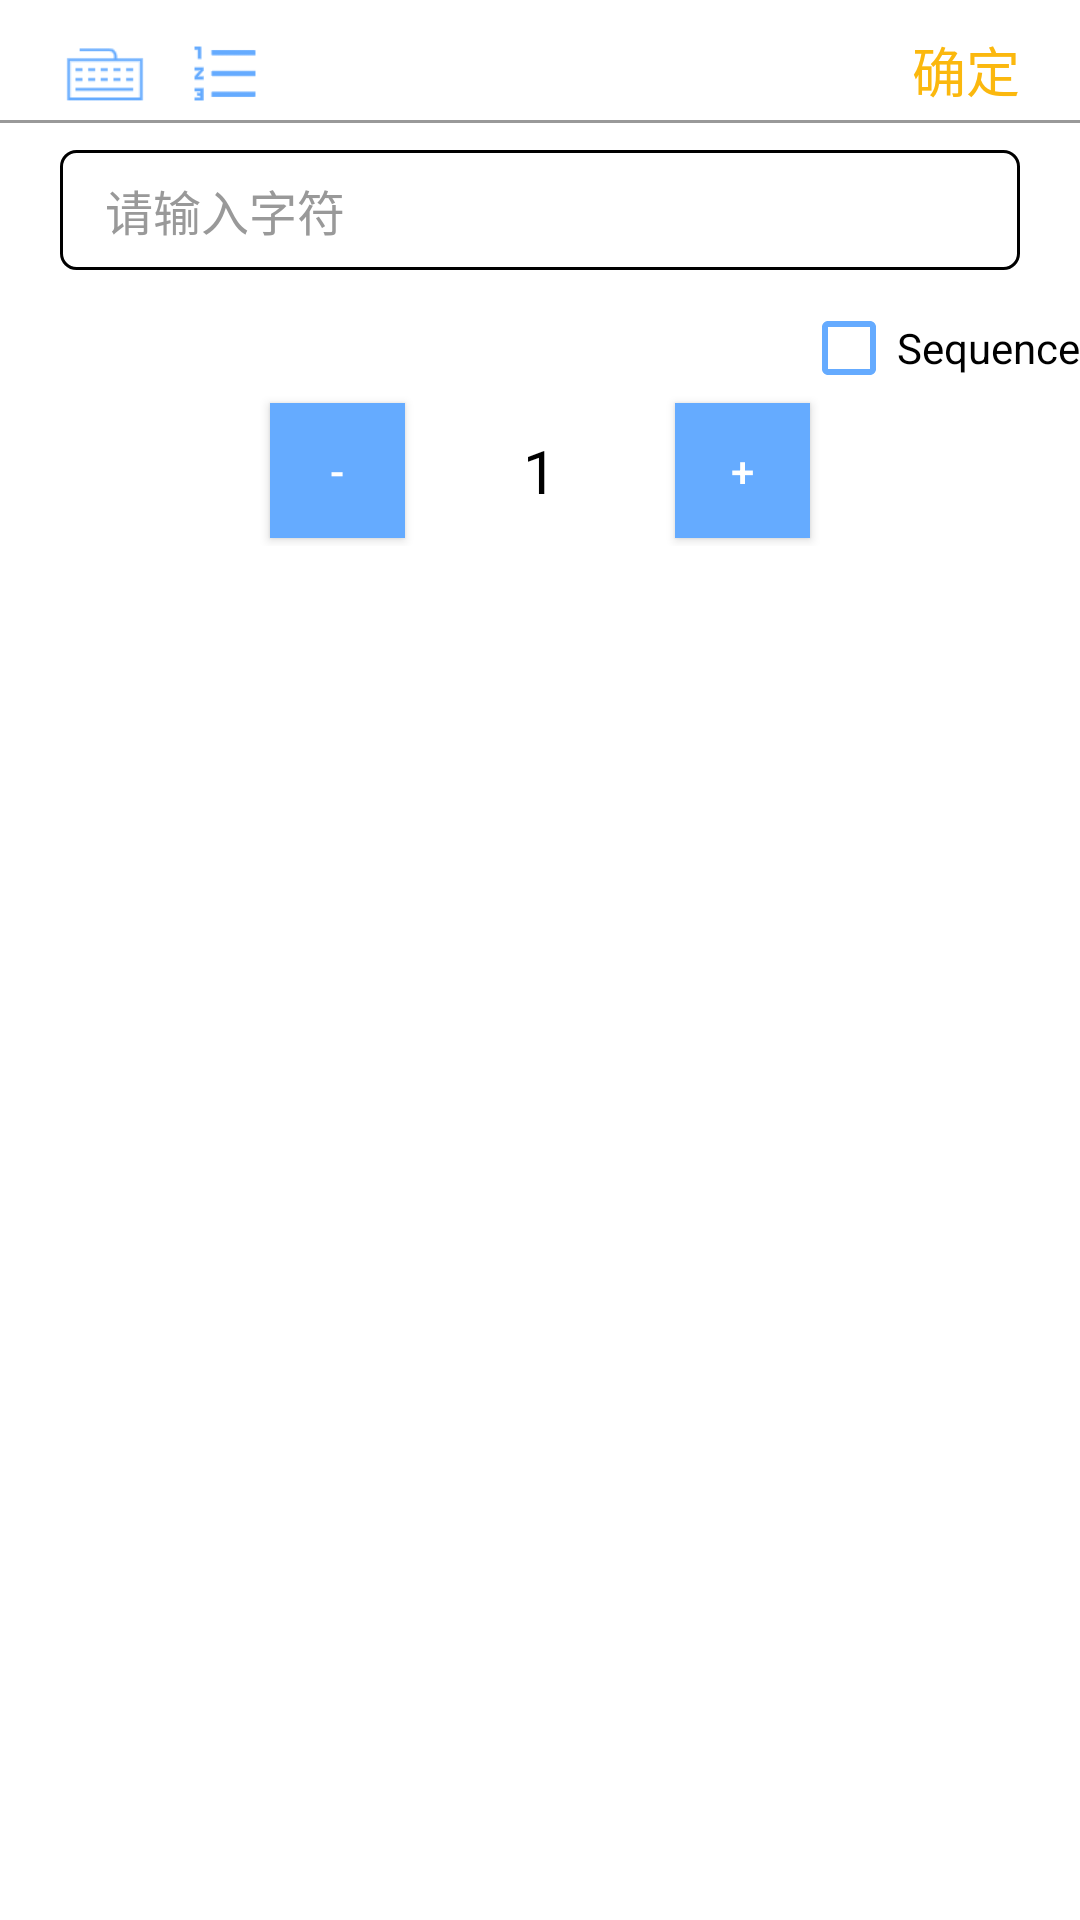

Icon bounding boxes for this 1080x1920 phone screenshot, format (x1, y1, x2, y2):
keyinput: (67, 48, 143, 101)
xulie: (194, 46, 256, 101)
